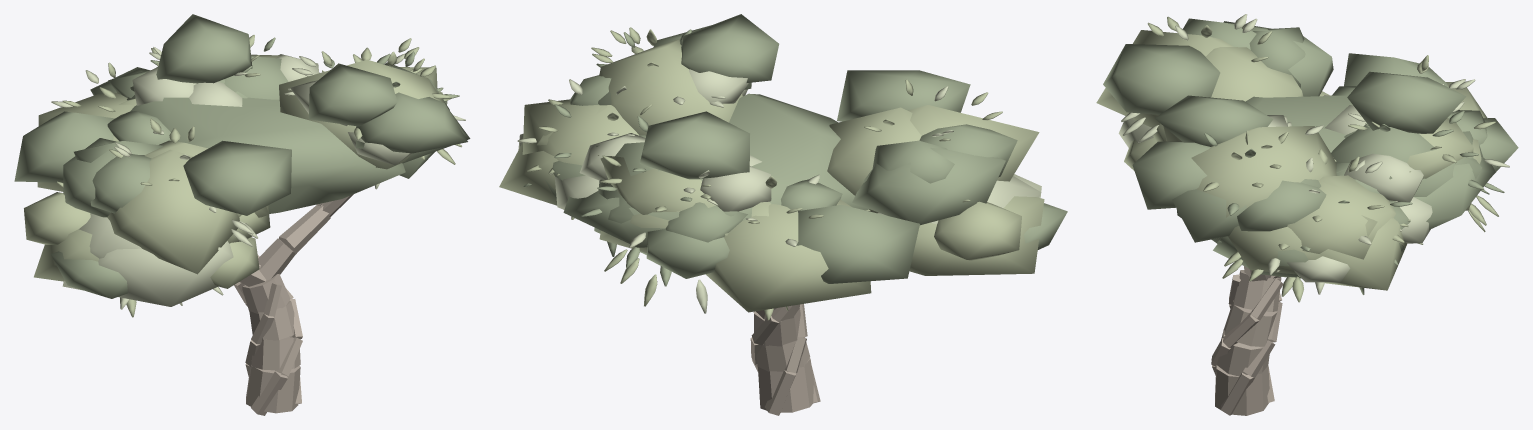
Rendered from Olive_Tree_2.gltf.
3 renders of one model, left to right at view 1: azimuth 30°, elevation 25°; view 2: azimuth 150°, elevation 25°; view 3: azimuth 270°, elevation 25°, orthographic. The views are drawn at different scales.
Visible parts, largest first — view 1: Olive_Tree_2; view 2: Olive_Tree_2; view 3: Olive_Tree_2.
Boxes of the visible parts, left/top/right/bottom form: Olive_Tree_2: left=14, top=14, right=470, bottom=415; Olive_Tree_2: left=499, top=14, right=1067, bottom=415; Olive_Tree_2: left=1096, top=14, right=1518, bottom=415.
Bounding box in the file's own units: 4.55 × 3.16 × 3.56.
